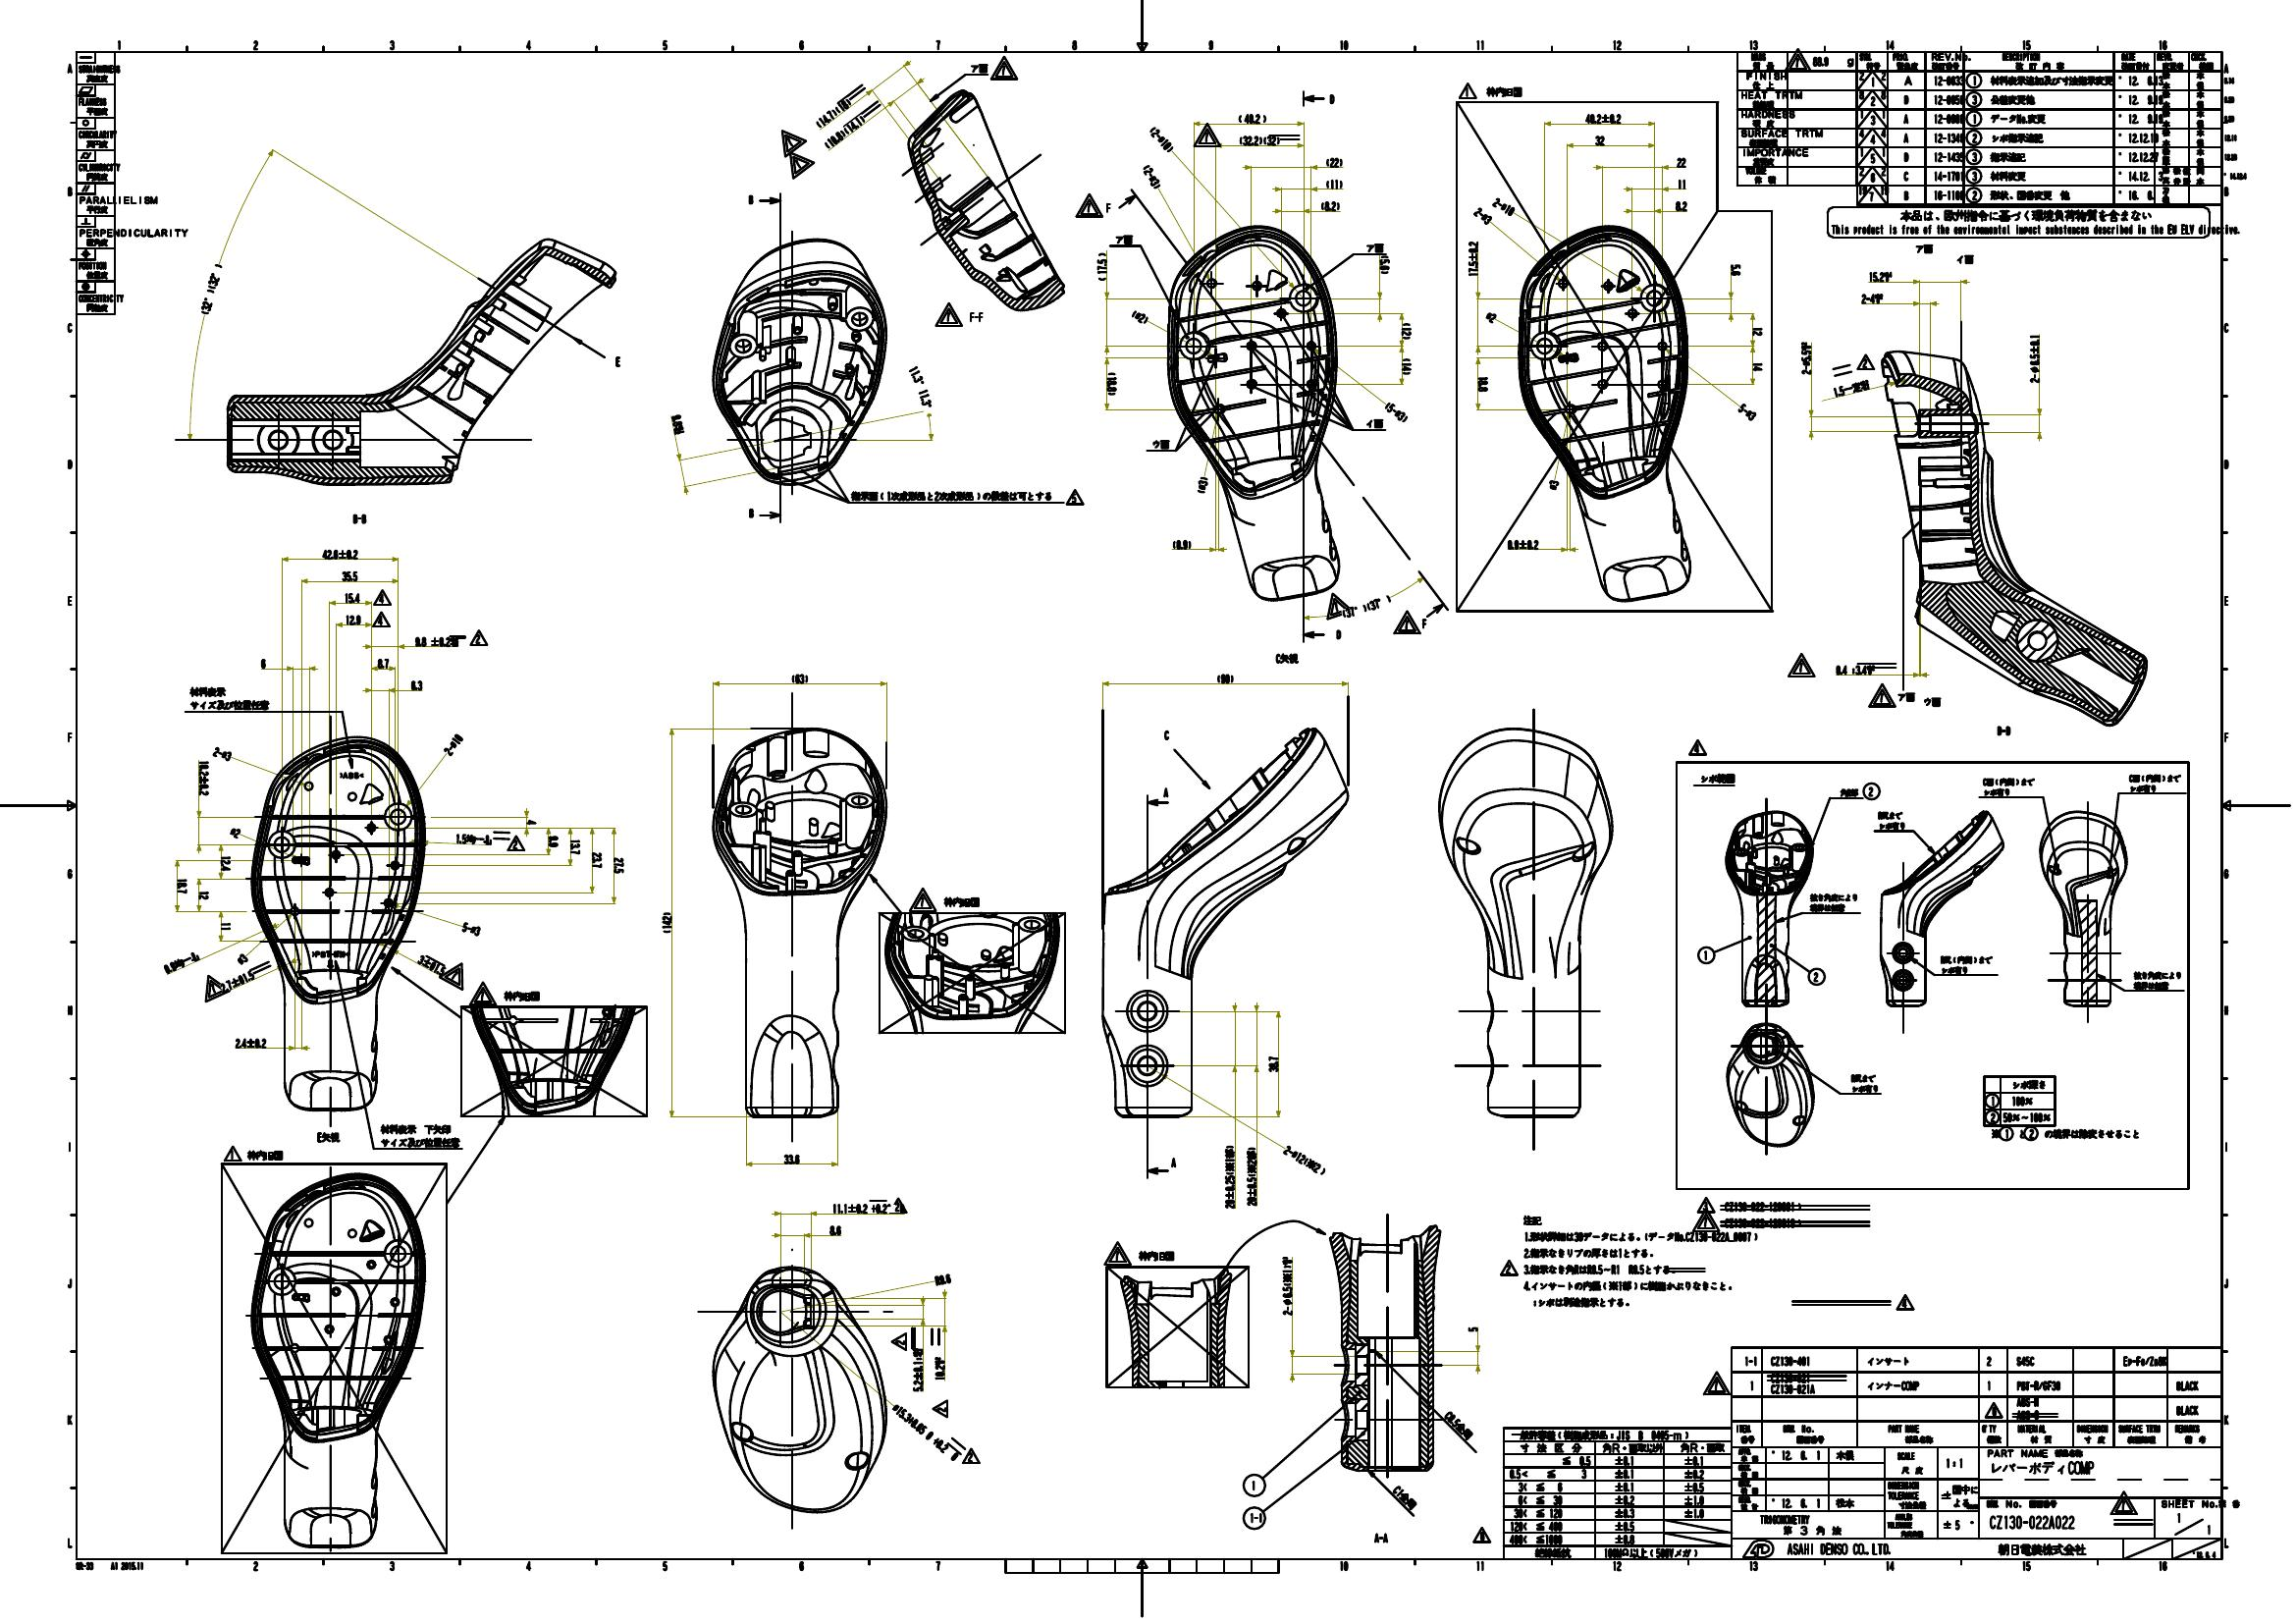anntotation_text: (1521, 1214, 1760, 1309), (1825, 206, 2242, 239), (848, 489, 1056, 503), (188, 684, 271, 712), (378, 1123, 462, 1149), (1989, 1127, 2143, 1141), (1980, 775, 2036, 798), (1938, 953, 1994, 975), (1808, 891, 1859, 916), (2127, 772, 2182, 794), (2131, 968, 2184, 991), (931, 299, 964, 329), (903, 886, 938, 914), (74, 1559, 144, 1573), (1073, 190, 1105, 220), (1191, 120, 1223, 148), (1785, 652, 1816, 680), (441, 958, 471, 986), (1391, 608, 1423, 634), (467, 981, 499, 1007), (989, 54, 1021, 81), (1867, 682, 1897, 708), (1103, 1241, 1133, 1267), (204, 974, 230, 1004), (773, 127, 803, 153), (1700, 1371, 1732, 1396), (1874, 807, 1908, 830), (1846, 1072, 1881, 1093), (940, 893, 982, 910), (1321, 592, 1349, 617), (782, 153, 813, 174), (1240, 1504, 1267, 1529), (1137, 1246, 1175, 1262), (1484, 84, 1525, 98), (1697, 772, 1736, 786), (1693, 1211, 1718, 1232), (1242, 1475, 1267, 1496), (501, 990, 543, 1002), (244, 1149, 285, 1162), (1695, 944, 1716, 965), (1272, 650, 1300, 666), (371, 608, 392, 629), (1456, 81, 1479, 100), (889, 1329, 908, 1352), (1894, 1292, 1917, 1311), (959, 1445, 982, 1464), (1063, 487, 1086, 506), (1806, 967, 1827, 986), (1498, 1258, 1520, 1278), (1470, 1526, 1491, 1545), (504, 833, 525, 852), (931, 1396, 949, 1418), (371, 589, 393, 606), (469, 627, 488, 647), (1855, 353, 1876, 371), (1686, 738, 1708, 756), (1860, 782, 1881, 800), (221, 1144, 242, 1162), (314, 1130, 341, 1144), (1695, 1195, 1715, 1213), (1839, 784, 1860, 800), (1365, 241, 1388, 255), (1952, 253, 1976, 265), (1149, 438, 1170, 452), (1913, 243, 1936, 255), (350, 511, 369, 526), (1363, 417, 1384, 429), (1996, 722, 2011, 738), (1372, 1531, 1390, 1545), (1114, 232, 1133, 244), (1897, 691, 1917, 703), (970, 62, 989, 74), (1165, 1153, 1179, 1169), (1924, 696, 1941, 708), (1159, 726, 1172, 743), (1159, 782, 1172, 800), (966, 309, 984, 322), (613, 353, 624, 367), (747, 192, 757, 206), (1326, 91, 1335, 105), (747, 506, 755, 520), (1421, 615, 1430, 627), (1333, 629, 1342, 642), (1105, 200, 1112, 214)
dimension_text: (1221, 1142, 1238, 1211), (882, 1420, 957, 1436), (413, 631, 467, 649), (1279, 1151, 1330, 1169), (829, 1200, 892, 1214), (1281, 1251, 1293, 1318), (181, 281, 239, 295), (1245, 1144, 1258, 1209), (908, 1345, 924, 1394), (1583, 107, 1623, 125), (1340, 599, 1393, 612), (453, 830, 494, 845), (2027, 332, 2040, 383), (1237, 132, 1281, 146), (230, 1035, 269, 1051), (1797, 339, 1813, 378), (896, 380, 945, 392), (1832, 661, 1874, 675), (1440, 1417, 1477, 1432), (1465, 237, 1479, 278), (1830, 381, 1871, 395), (320, 548, 360, 562), (162, 954, 200, 968), (197, 759, 211, 798), (1504, 536, 1541, 550), (1390, 1489, 1421, 1504), (223, 970, 255, 986), (415, 958, 450, 972), (820, 127, 866, 137), (813, 107, 852, 120), (931, 1353, 947, 1383), (1145, 132, 1177, 146), (1237, 112, 1268, 125), (1105, 367, 1117, 399), (1859, 290, 1885, 304), (439, 736, 466, 750), (1137, 170, 1166, 183), (339, 566, 362, 582), (341, 589, 364, 605), (1383, 406, 1411, 418), (1867, 269, 1892, 283), (659, 909, 673, 933), (209, 747, 234, 761), (1490, 200, 1516, 213), (174, 874, 188, 896), (1096, 251, 1107, 281), (458, 923, 483, 935), (1470, 211, 1495, 223), (778, 1153, 803, 1165), (1265, 1053, 1279, 1074), (1319, 199, 1340, 213), (1323, 155, 1344, 169), (1379, 251, 1391, 274), (787, 671, 810, 684), (664, 420, 690, 431), (1734, 406, 1760, 417), (933, 1272, 952, 1287), (1214, 671, 1233, 685), (344, 612, 364, 626), (590, 849, 603, 870), (220, 851, 232, 872), (1400, 355, 1412, 376), (1400, 320, 1412, 341), (1170, 538, 1193, 548), (826, 1223, 845, 1236), (569, 837, 581, 856), (1476, 373, 1488, 392), (1193, 478, 1212, 490), (234, 951, 249, 965), (548, 831, 560, 849), (1130, 309, 1147, 322), (613, 856, 624, 875), (1323, 178, 1342, 188), (197, 888, 211, 902), (1592, 132, 1606, 146), (374, 656, 388, 670), (408, 677, 422, 691), (1483, 311, 1498, 323), (1672, 199, 1688, 211), (220, 919, 232, 933), (1751, 359, 1764, 373), (1674, 155, 1688, 167), (1730, 260, 1741, 276), (228, 826, 241, 838), (1548, 478, 1560, 490), (1751, 325, 1764, 337), (1465, 1323, 1479, 1334), (1676, 176, 1686, 190), (260, 656, 269, 671), (523, 817, 536, 826)
object: (1880, 348, 2148, 729), (223, 237, 618, 487), (1098, 726, 1349, 1118), (1435, 726, 1614, 1120), (710, 726, 887, 1120), (248, 735, 429, 1113), (248, 1171, 427, 1548), (1514, 223, 1692, 603), (1165, 223, 1340, 601), (708, 236, 889, 487), (711, 1265, 889, 1515), (905, 86, 1068, 313), (1326, 1223, 1442, 1473), (1876, 808, 2004, 1009), (884, 914, 1061, 1033), (469, 1004, 636, 1116), (2036, 808, 2127, 1009), (1723, 808, 1815, 1009), (1119, 1269, 1233, 1388), (1723, 1021, 1816, 1148)
title_block: (1730, 1345, 2224, 1561), (1734, 49, 2224, 207), (1502, 1425, 1732, 1561), (74, 49, 116, 316), (1982, 1074, 2057, 1127)
